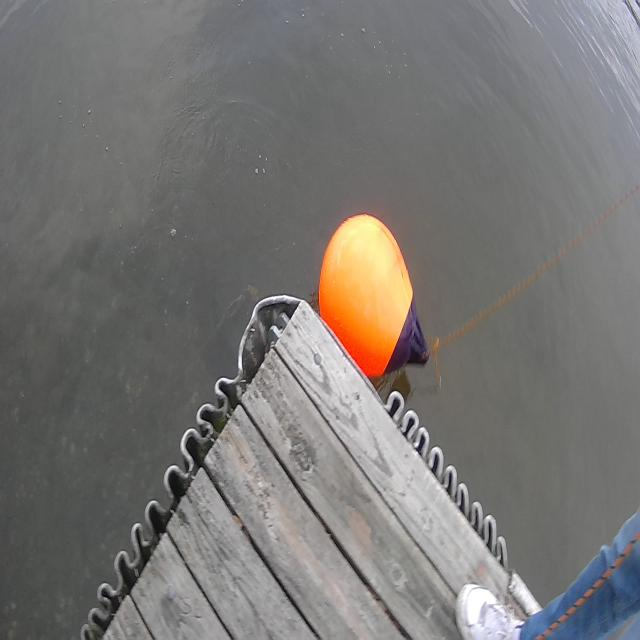Buoy: (310, 197, 434, 405)
